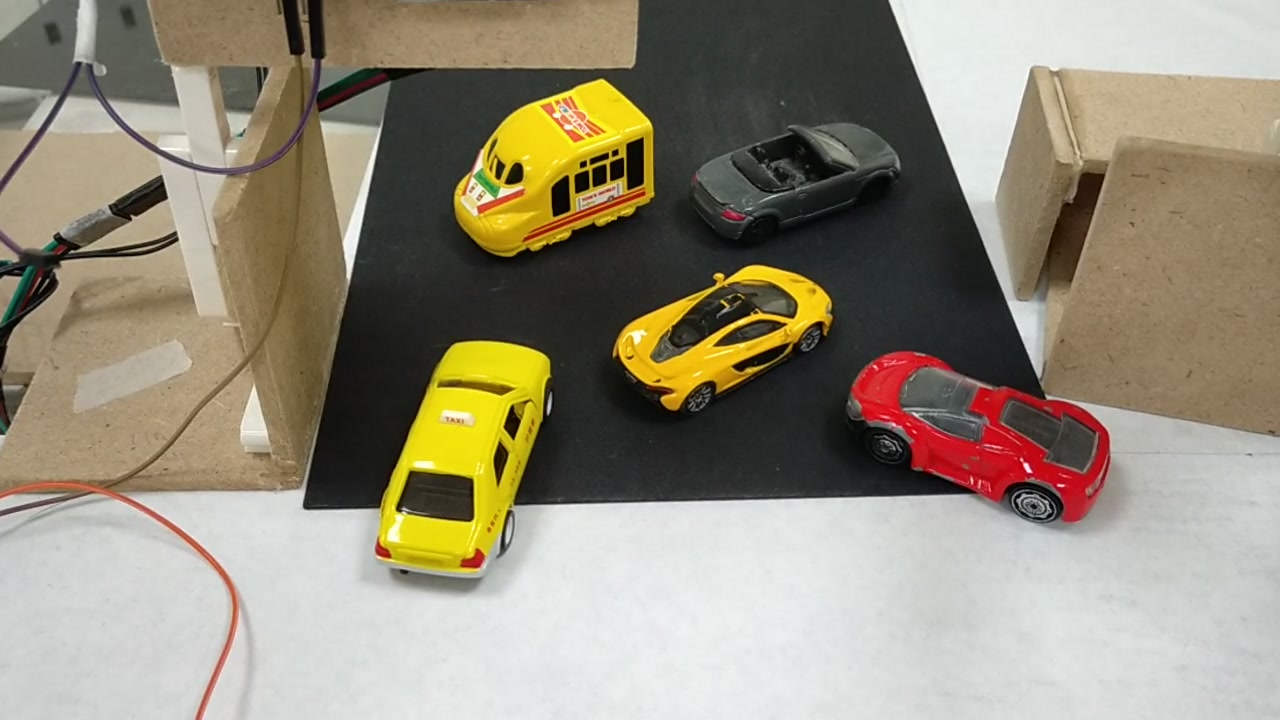car: (850, 343, 1110, 523), (371, 343, 557, 571), (592, 266, 832, 408), (682, 118, 901, 241)
